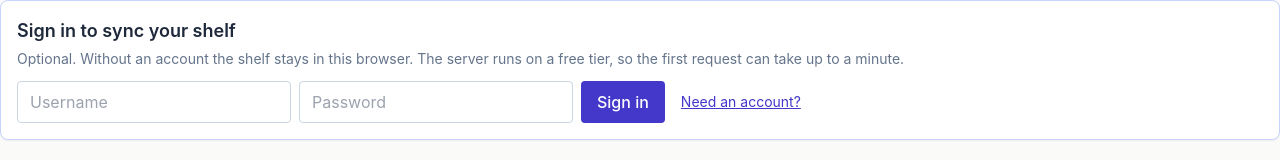
Test: switches to register mode and shows the email field
Expected: the field labelled "Email" is not shown
Click the button "Need an account?" at (741, 102), box [673,81,809,123]
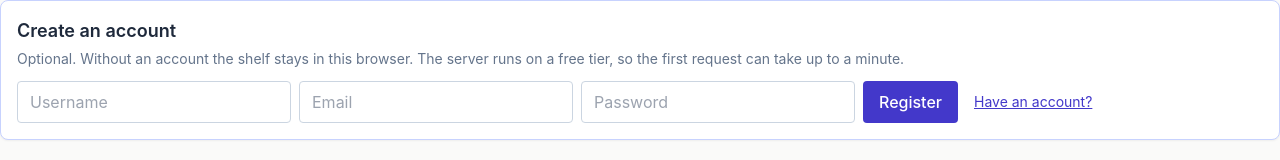
Expected: the field labelled "Email" is shown, [299,81,573,123]
Expected: the form named "create account" is shown
